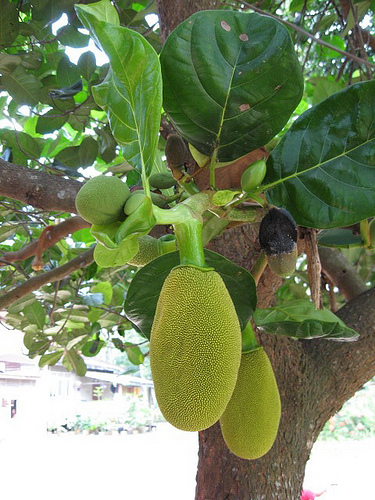jackfruit: (150, 260, 245, 432), (220, 347, 282, 460)
